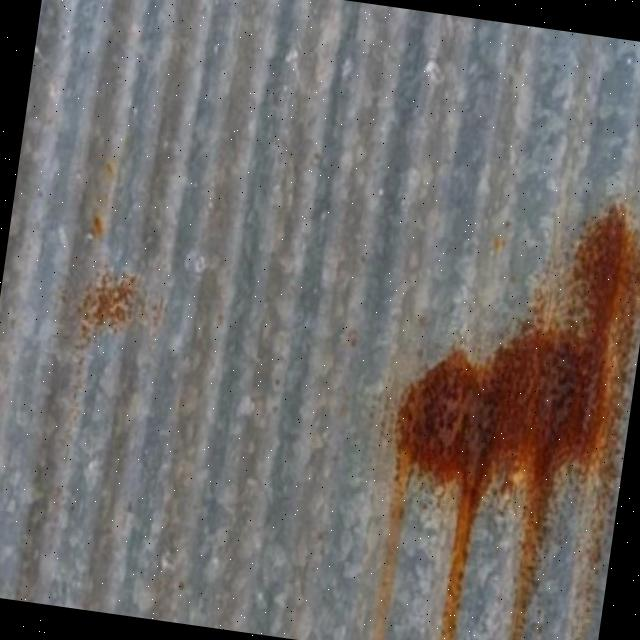Corrosion: (359, 170, 640, 640)
